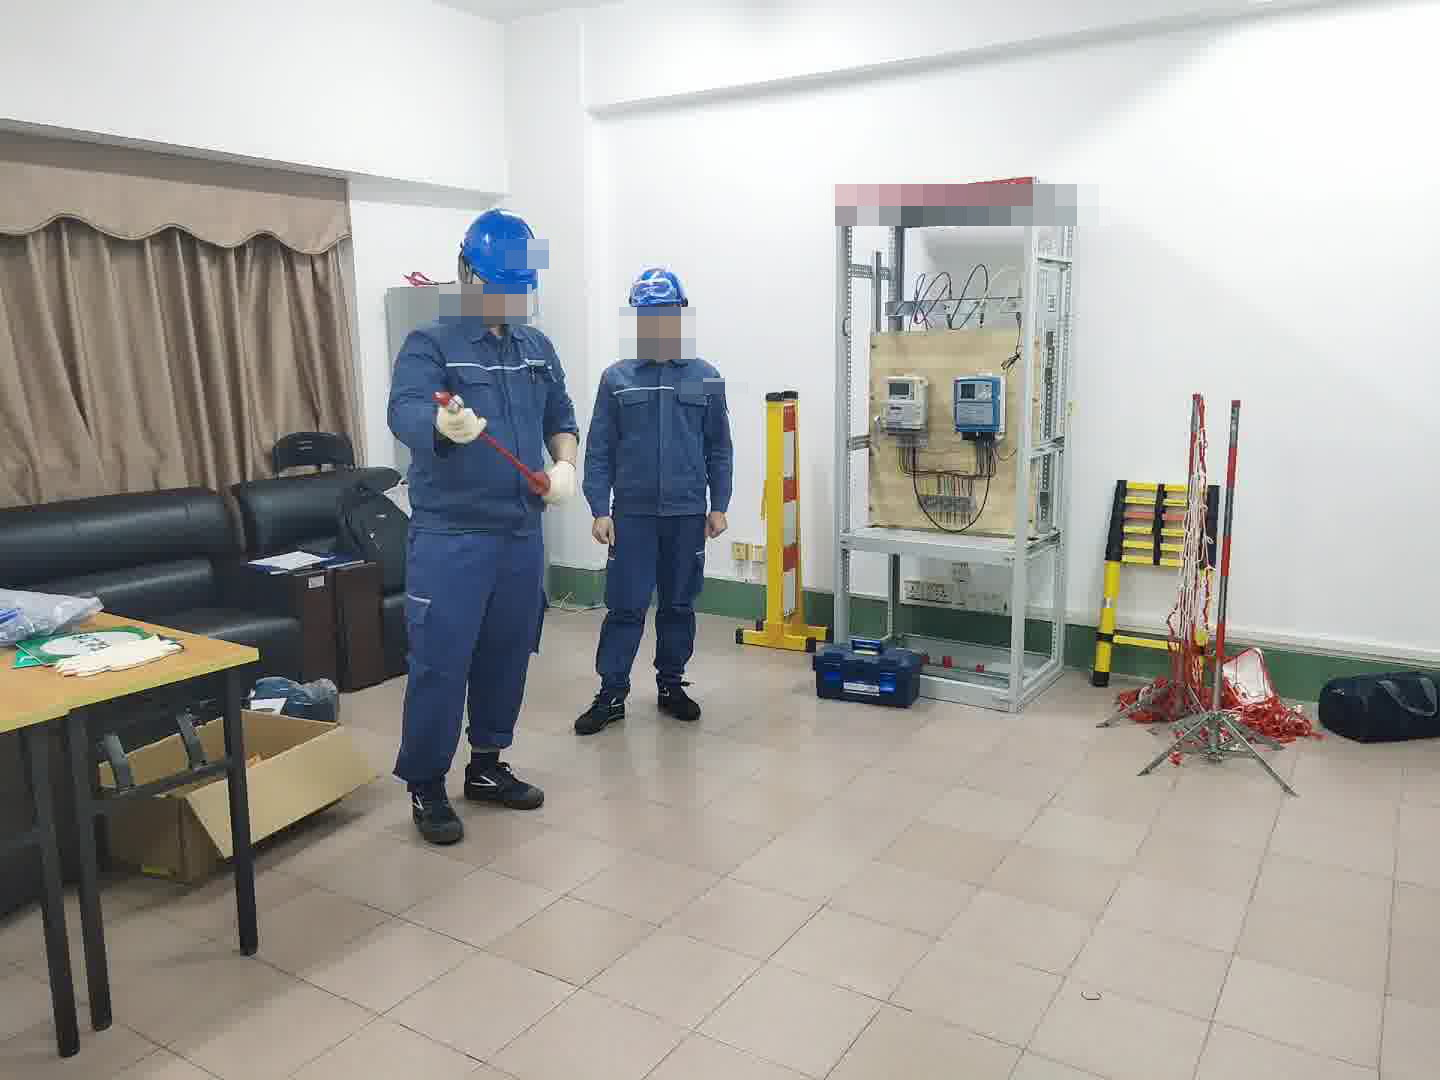downsuit: (393, 543, 549, 787), (597, 527, 707, 695)
halt: (457, 209, 544, 314), (627, 264, 694, 351)
hand: (591, 517, 617, 546), (705, 507, 728, 539)
person: (381, 206, 576, 830), (581, 262, 739, 728)
testrod: (432, 390, 551, 498)
upsuit: (382, 299, 577, 524), (579, 345, 735, 506)
wglove: (435, 394, 489, 446), (545, 458, 579, 506)
wrongtop: (546, 405, 582, 471)
